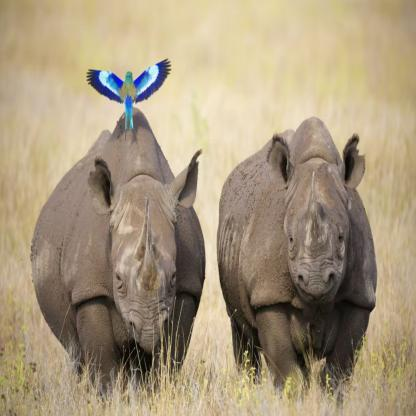Diceros bicornis: (30, 106, 206, 392), (216, 116, 379, 409)
